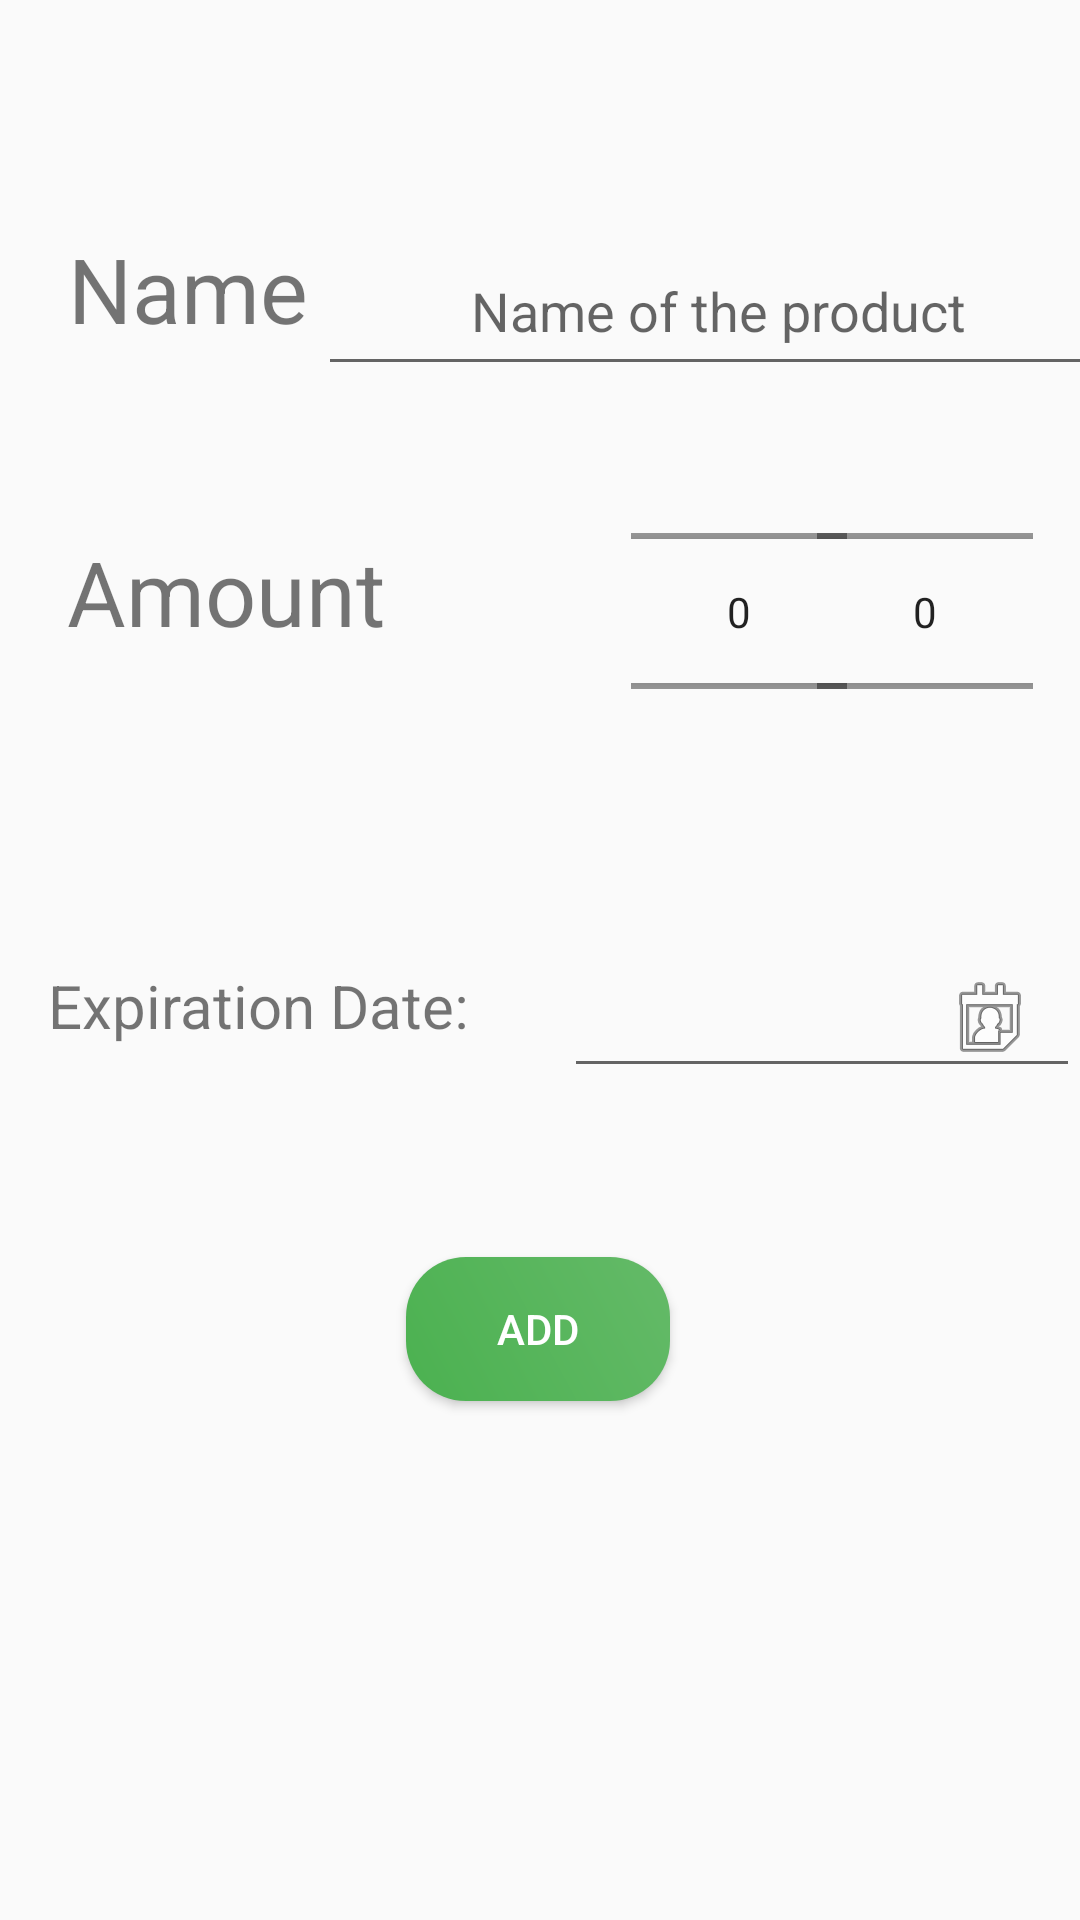

Icon click points for this 1080px x 1920px phone screenshot, format (x=x, y=y):
calendar: (x=990, y=1017)
